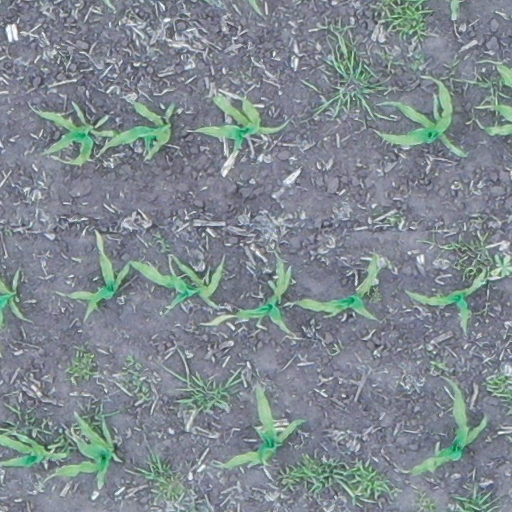planta: (66, 228, 225, 325), (215, 384, 307, 472), (410, 381, 489, 478), (377, 78, 469, 161), (296, 251, 384, 322), (194, 91, 282, 159), (36, 98, 116, 168), (405, 267, 489, 330), (51, 412, 118, 488), (99, 98, 176, 162), (233, 257, 295, 335)
